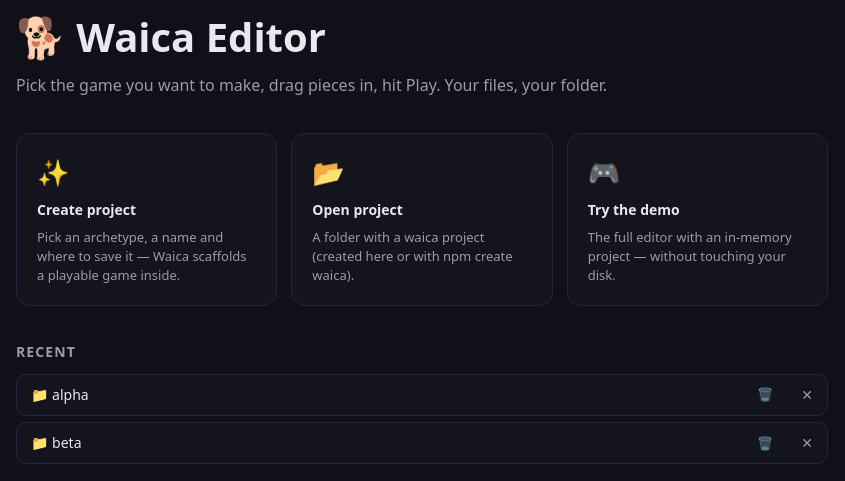
it: Home characterization: recent projects › forgets a recent project without touching its folder
This screenshot has width=845, height=481.
Click the button named "Remove alpha from recents".
click(807, 395)  # box [787,375,827,415]
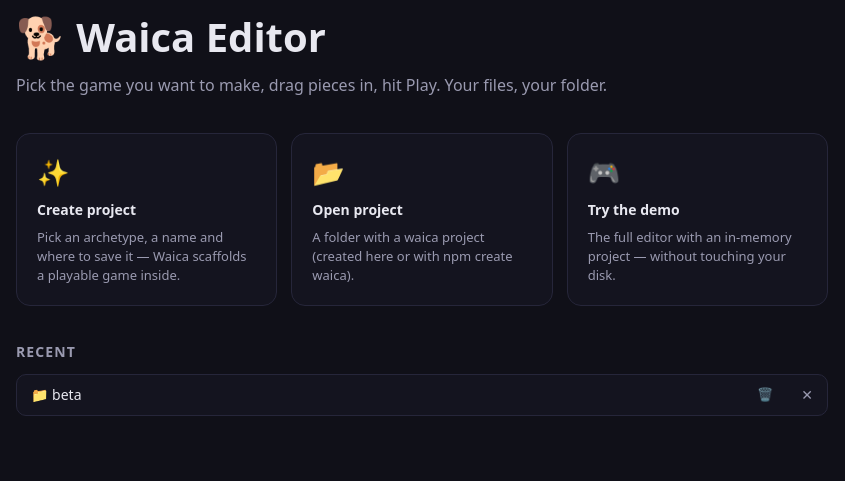
Check: the button "📁 beta" is shown, box [17,375,743,415]
Check: the button "📁 alpha" is gone
